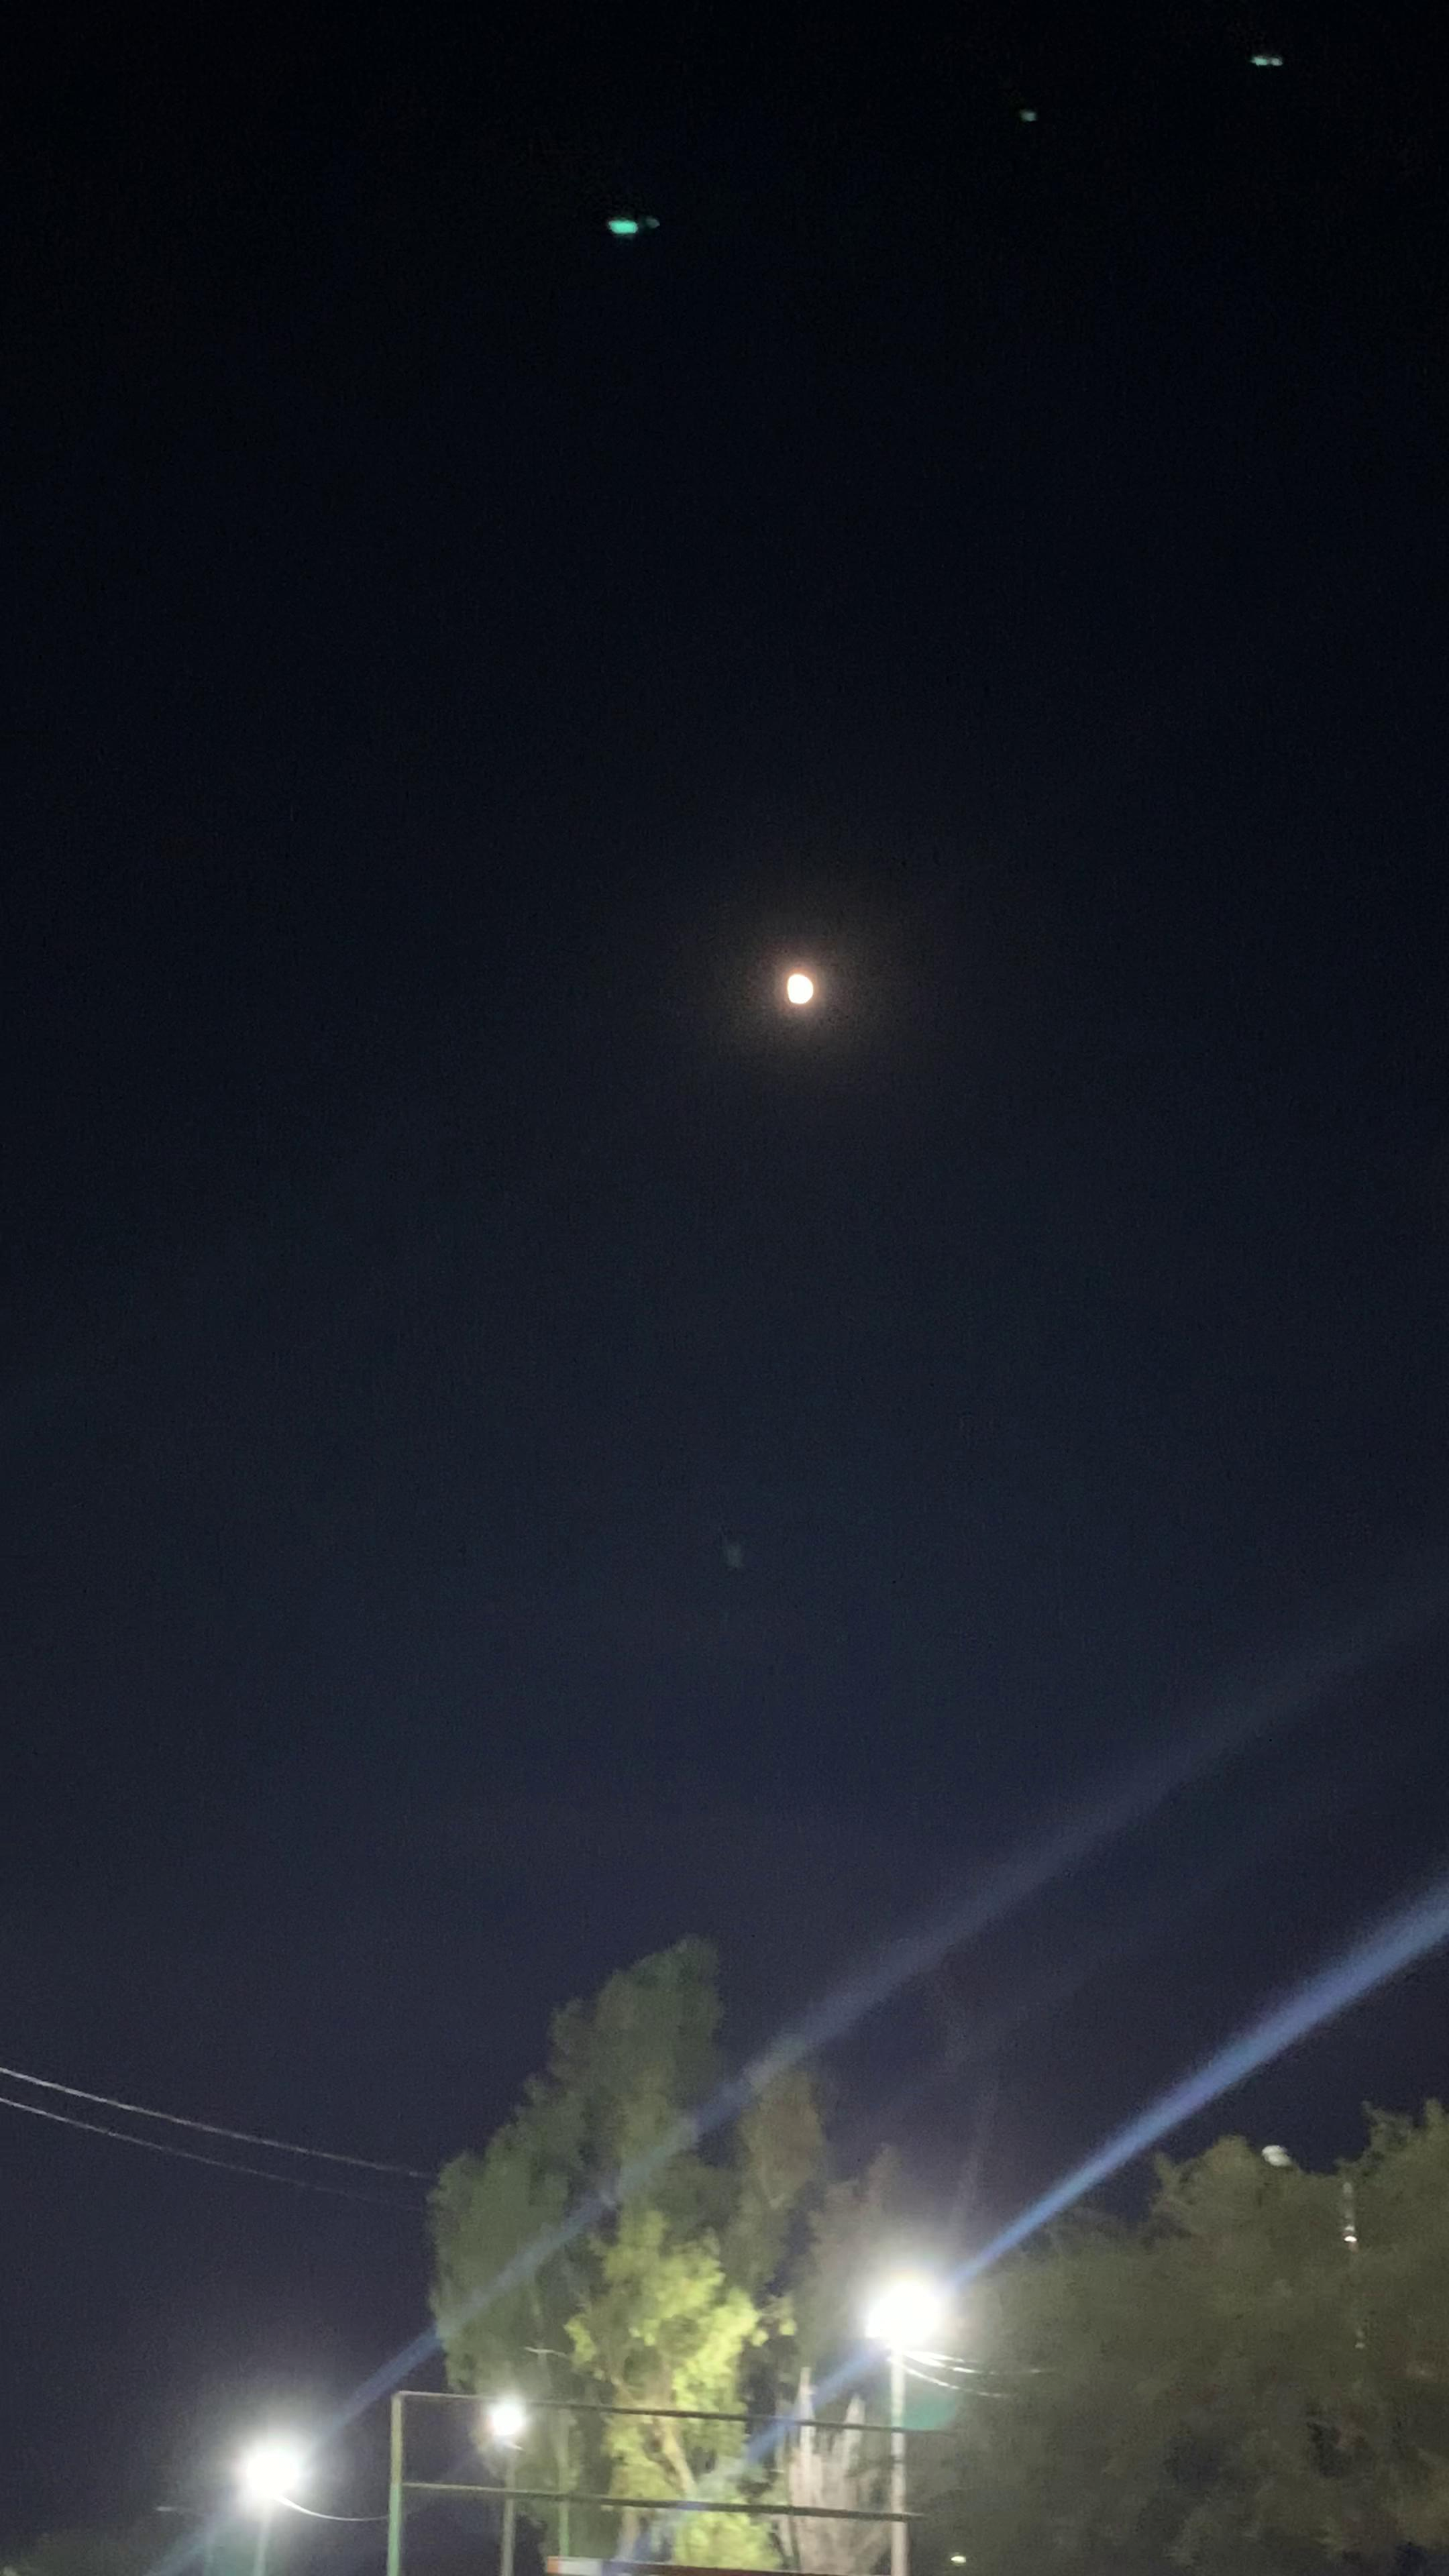moon: (747, 938, 847, 1054)
